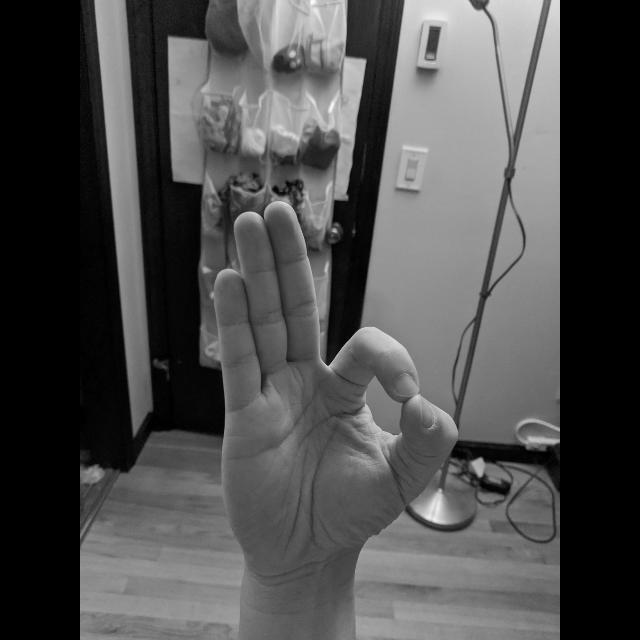F: (209, 196, 463, 568)
